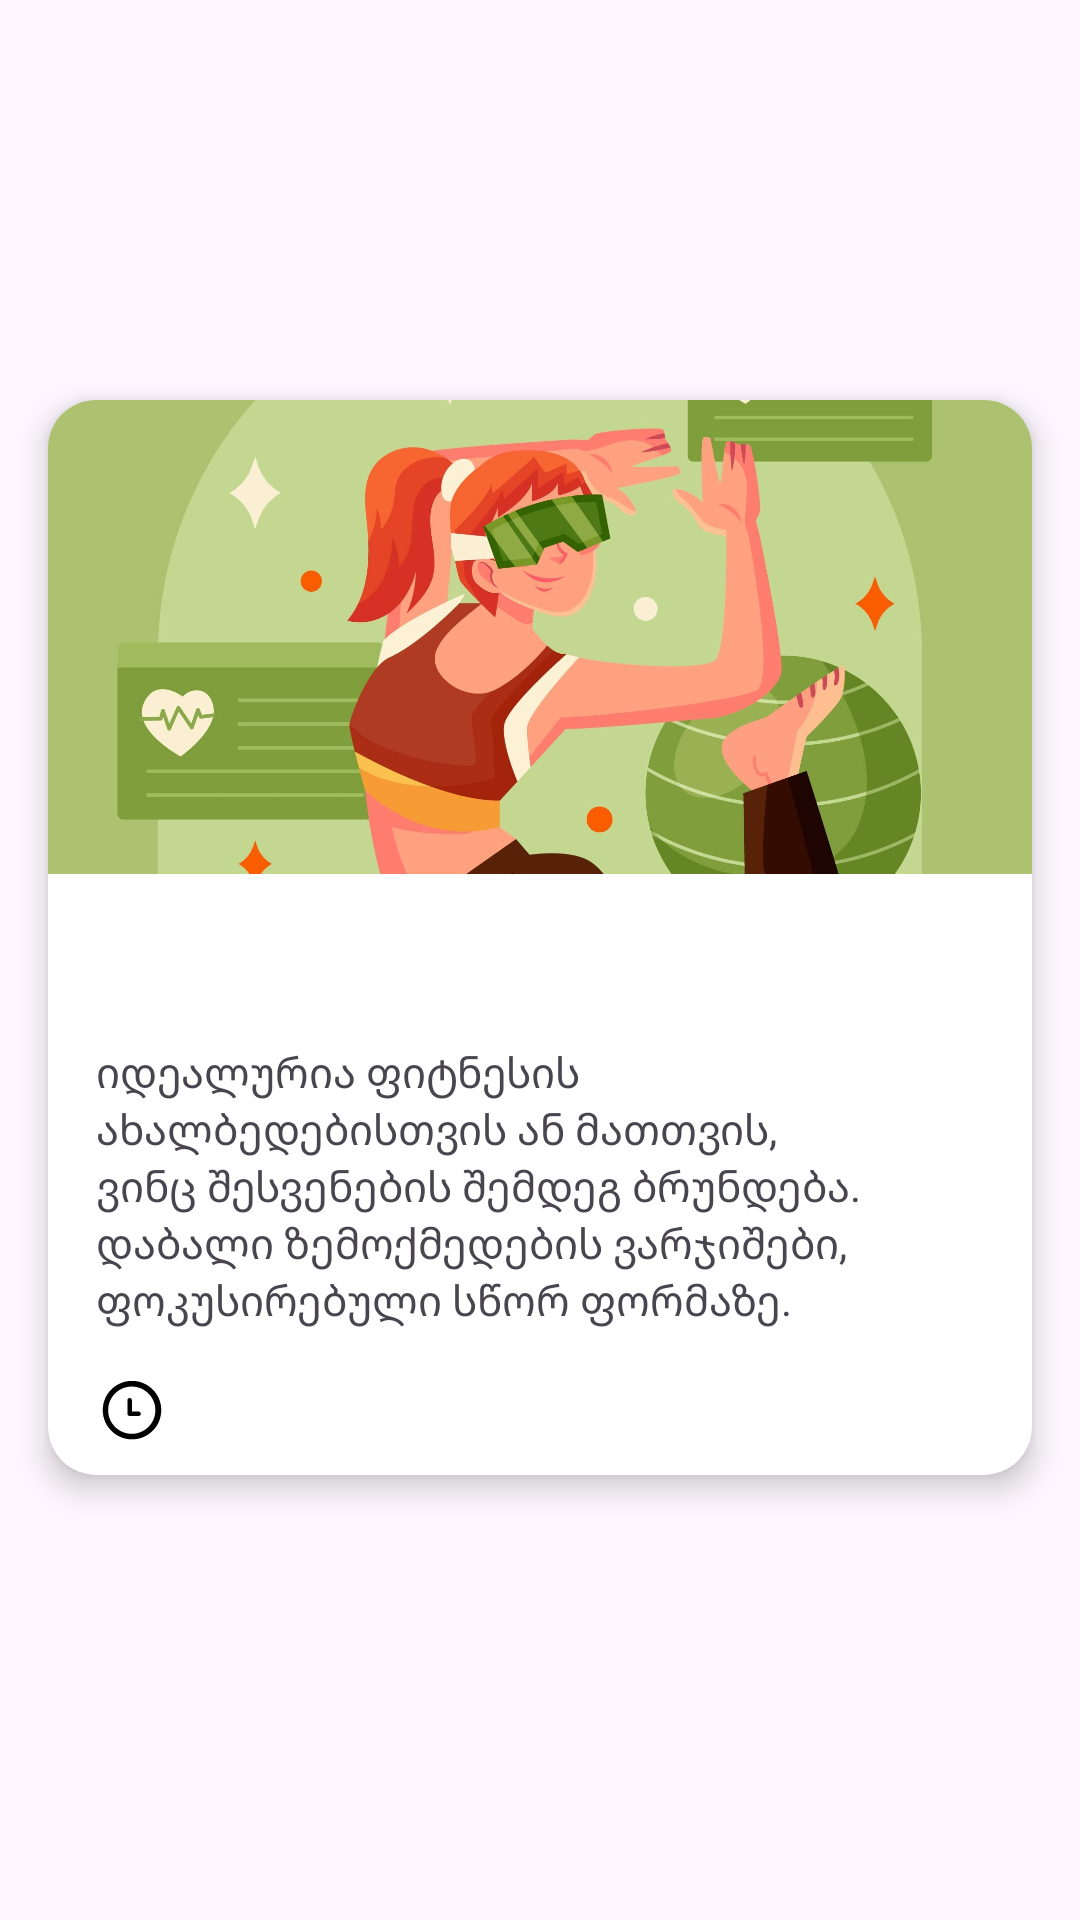

Icons on this 1080 × 1920 Android screen, each with its box as (x1, y1, x2, y2):
time: (102, 1381, 162, 1440)
